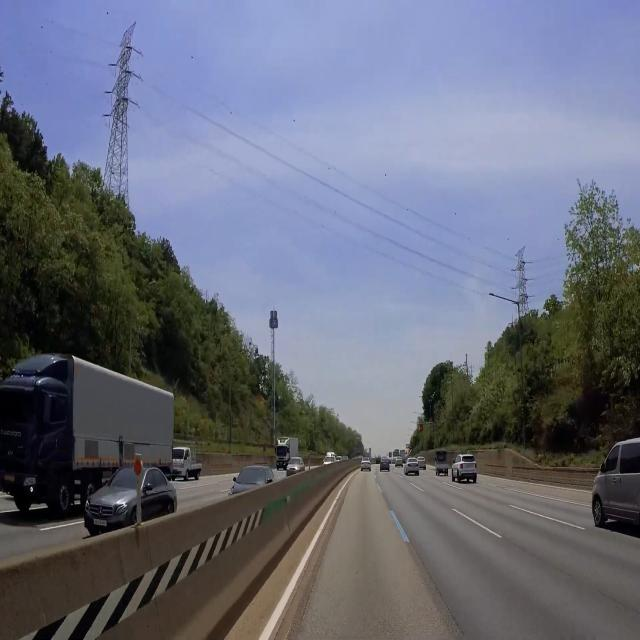car: (91, 516, 110, 532), (2, 470, 16, 487), (466, 463, 475, 475), (408, 466, 419, 473), (363, 462, 369, 471), (382, 464, 388, 469), (442, 466, 446, 472)
